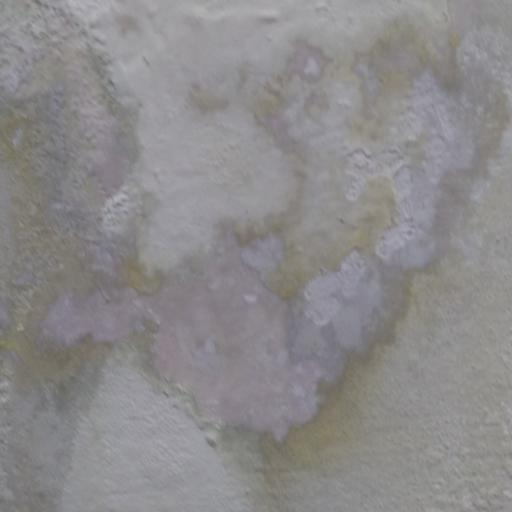algae: (49, 42, 485, 481)
